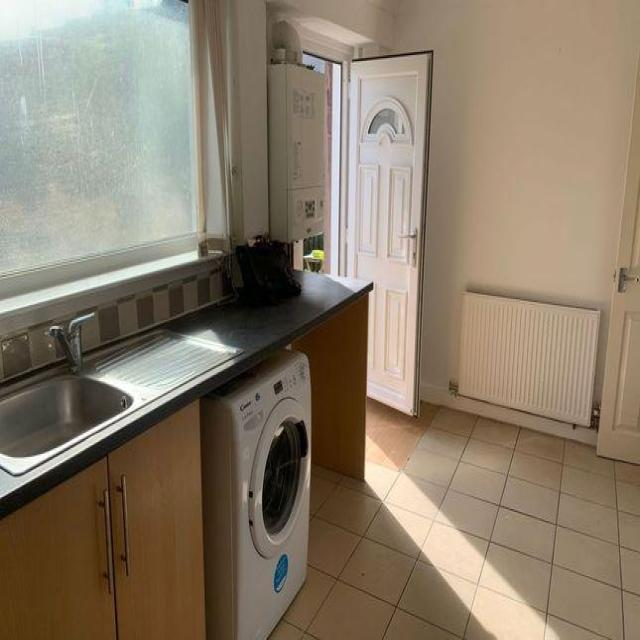Wall: (269, 0, 640, 404), (271, 399, 640, 639), (81, 266, 230, 350), (230, 0, 269, 243), (0, 328, 61, 378)
